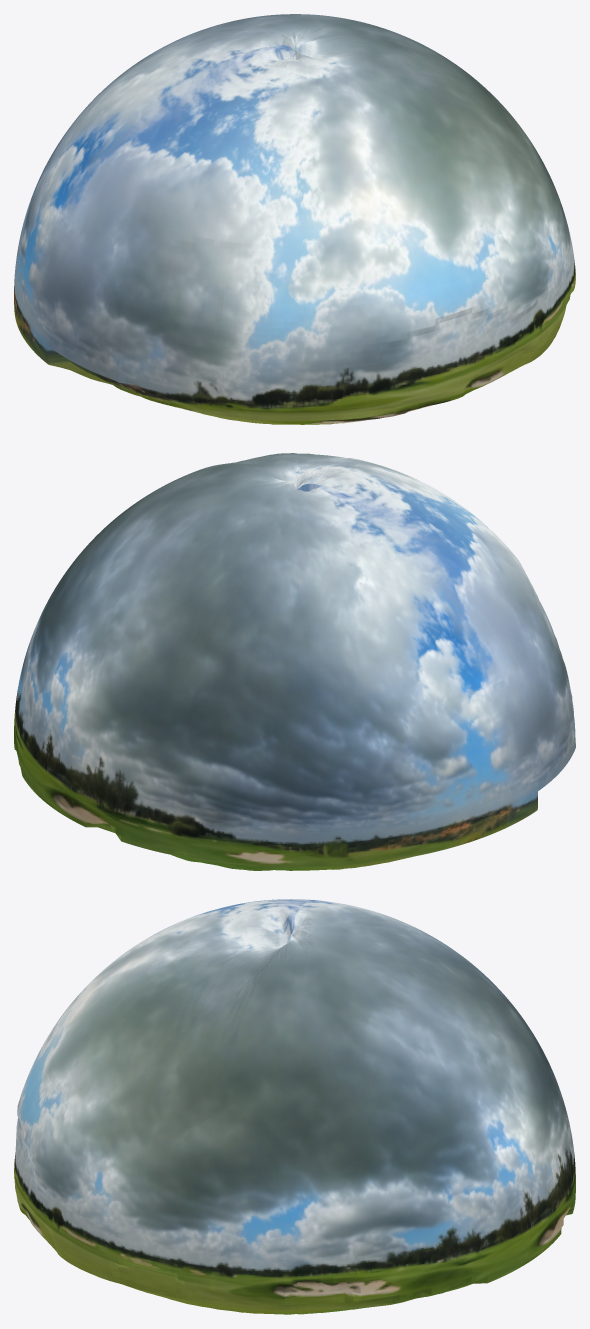
File: XRWorkoutGolfCourse_normalized.glb
The picture shows the model from 3 angles, top to bottom: view 1: azimuth 30°, elevation 25°; view 2: azimuth 150°, elevation 25°; view 3: azimuth 270°, elevation 25°; orthographic projection.
Visible parts, largest first — view 1: Sphere; view 2: Sphere; view 3: Sphere.
Part boxes in pixels (left/top/right/bottom): Sphere: left=14, top=14, right=575, bottom=424; Sphere: left=14, top=453, right=575, bottom=870; Sphere: left=14, top=899, right=575, bottom=1314.
Size of the model in its own units: 1790 by 1166 by 1771.
1 material, 1 textured.
